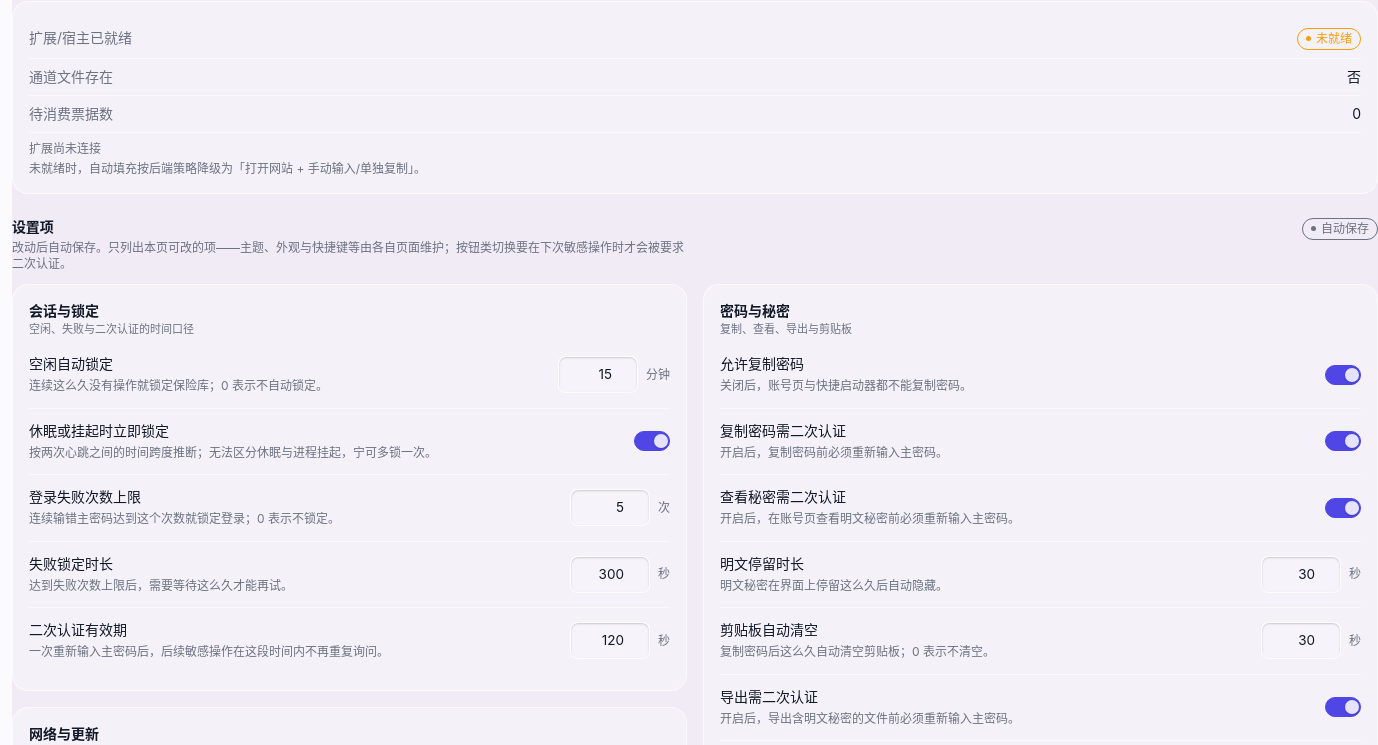
改后自动保存 › 数字越界不提交，提示范围并把输入退回服务端值
(page scrolled)
Replace the text in the number field named "空闲自动锁定" with "9999" at point(598, 375), box [558,356,638,393]
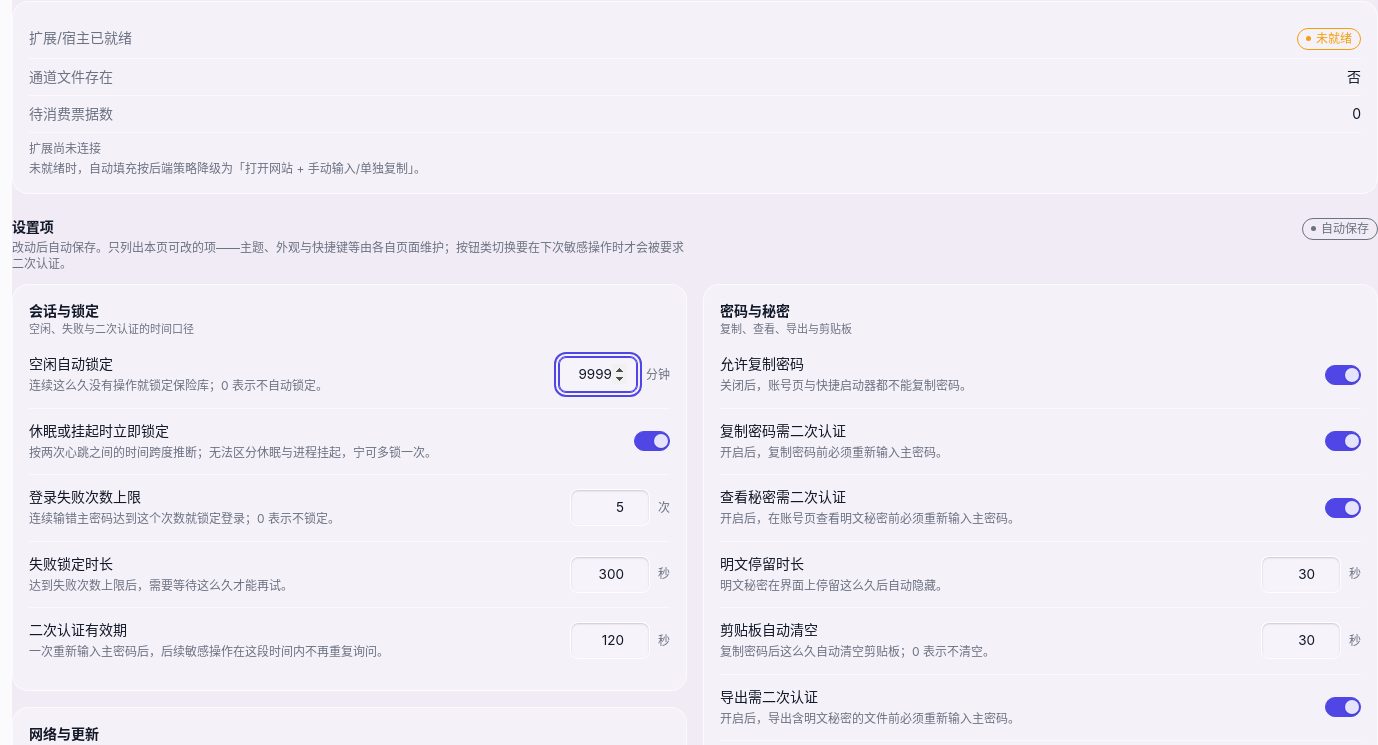
Leave the number field named "空闲自动锁定", box [558,356,638,393]
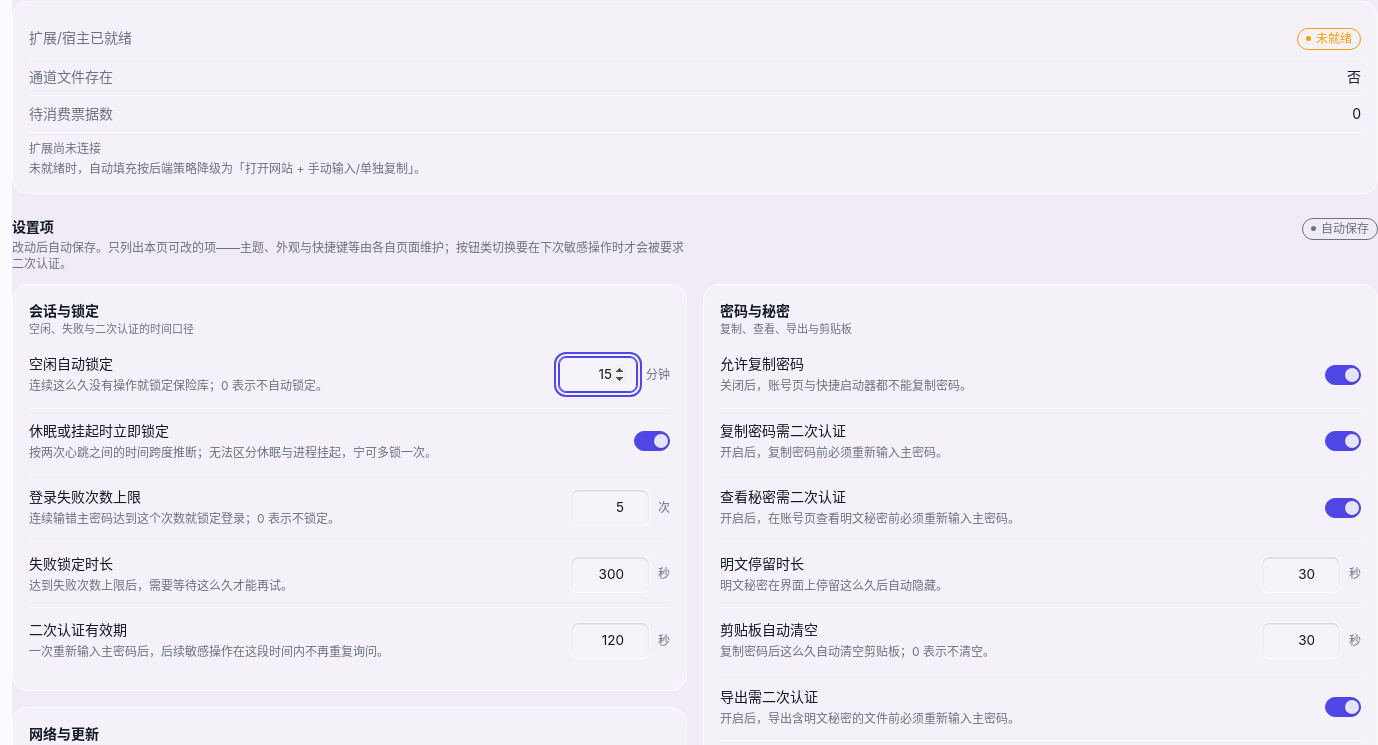
Check: the number field named "空闲自动锁定" holds "15", box [558,356,638,393]
